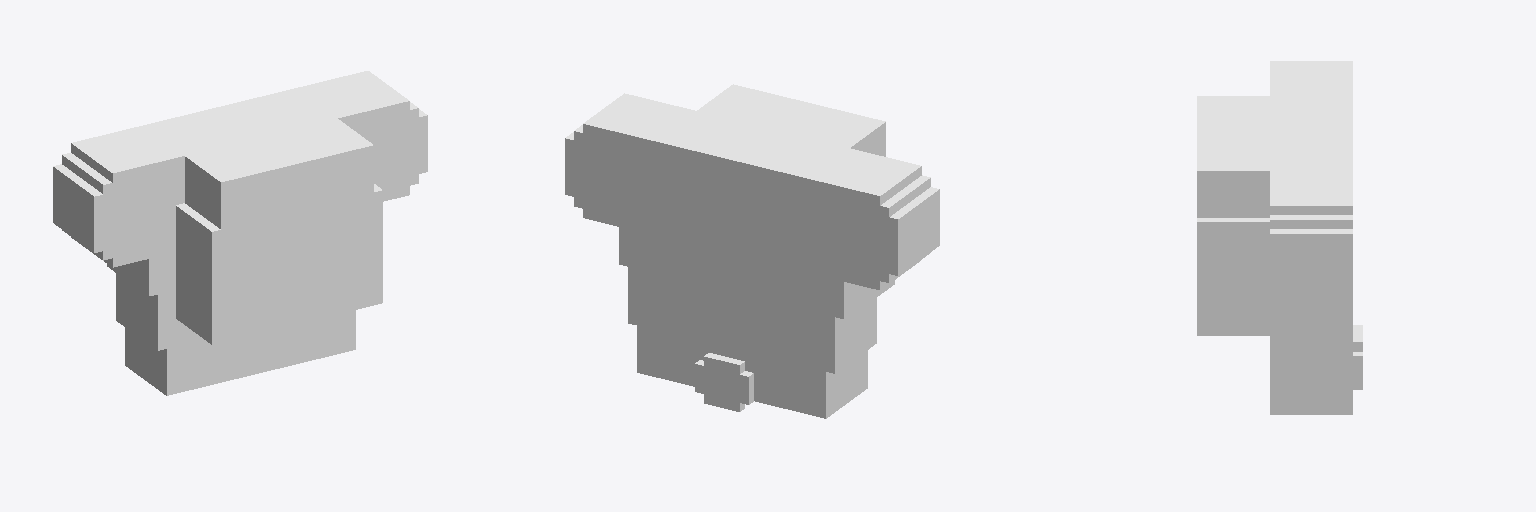
File: pedroFODA-1.obj
3 views of the same model, side by side, from view 1: azimuth 30°, elevation 25°; view 2: azimuth 150°, elevation 25°; view 3: azimuth 270°, elevation 25° (orthographic).
Parts seen in each view (by area): view 1: object 1; view 2: object 1; view 3: object 1.
Boxes of the visible parts, <box> form: object 1: <box>53,71,427,395</box>; object 1: <box>565,84,939,418</box>; object 1: <box>1197,61,1362,414</box>.
Bounding box in the file's own units: 3.7 × 2.6 × 1.6.